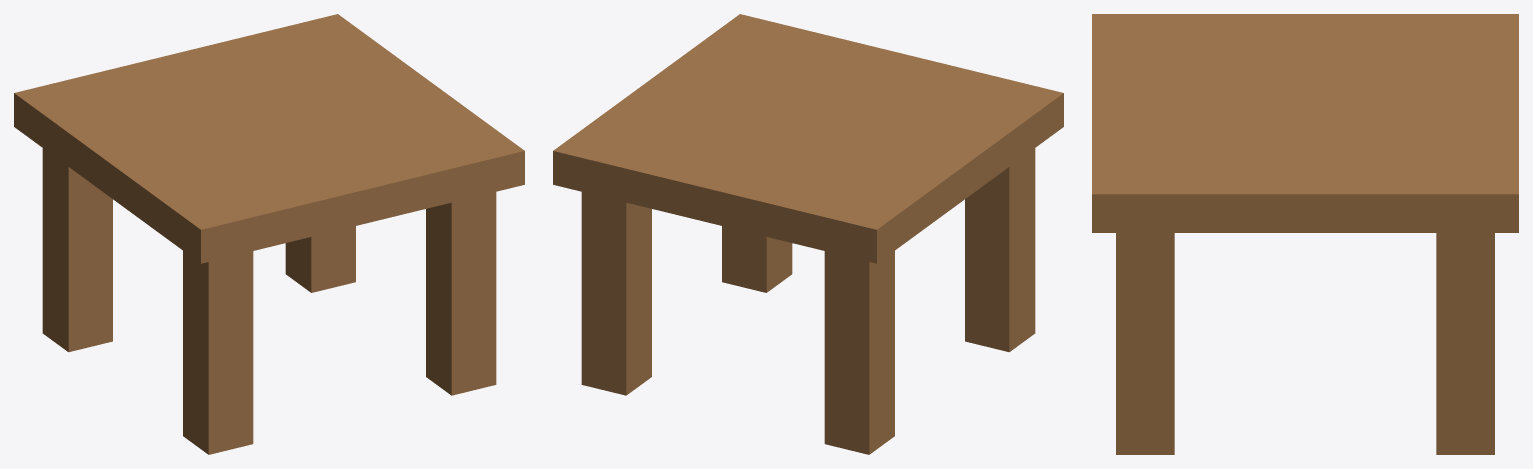
Rendered from plantstandshort.gltf.
3 renders of one model, left to right at view 1: azimuth 30°, elevation 25°; view 2: azimuth 150°, elevation 25°; view 3: azimuth 270°, elevation 25°, orthographic. The views are drawn at different scales.
Visible parts, largest first — view 1: PlantStandShort; view 2: PlantStandShort; view 3: PlantStandShort.
Boxes of the visible parts, x1,y1,x2,y2 form: PlantStandShort: [14, 14, 524, 454]; PlantStandShort: [553, 14, 1063, 454]; PlantStandShort: [1092, 14, 1518, 454].
Size of the model in its own units: 0.4 by 0.28 by 0.4.
Materials: 1 (1 with a texture image).
